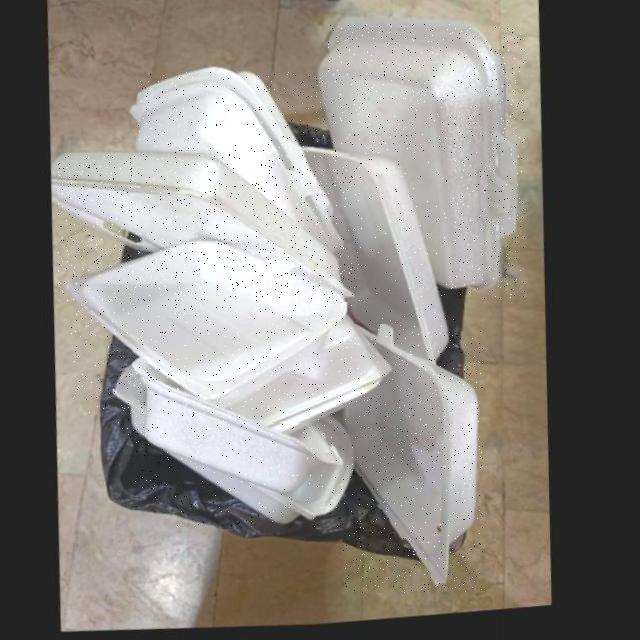styrofoam: (327, 24, 525, 299), (72, 243, 354, 412), (58, 155, 362, 301), (139, 72, 350, 259), (343, 331, 483, 594), (311, 154, 455, 372), (136, 362, 346, 498), (170, 423, 358, 529), (232, 324, 397, 438), (118, 370, 151, 438)
